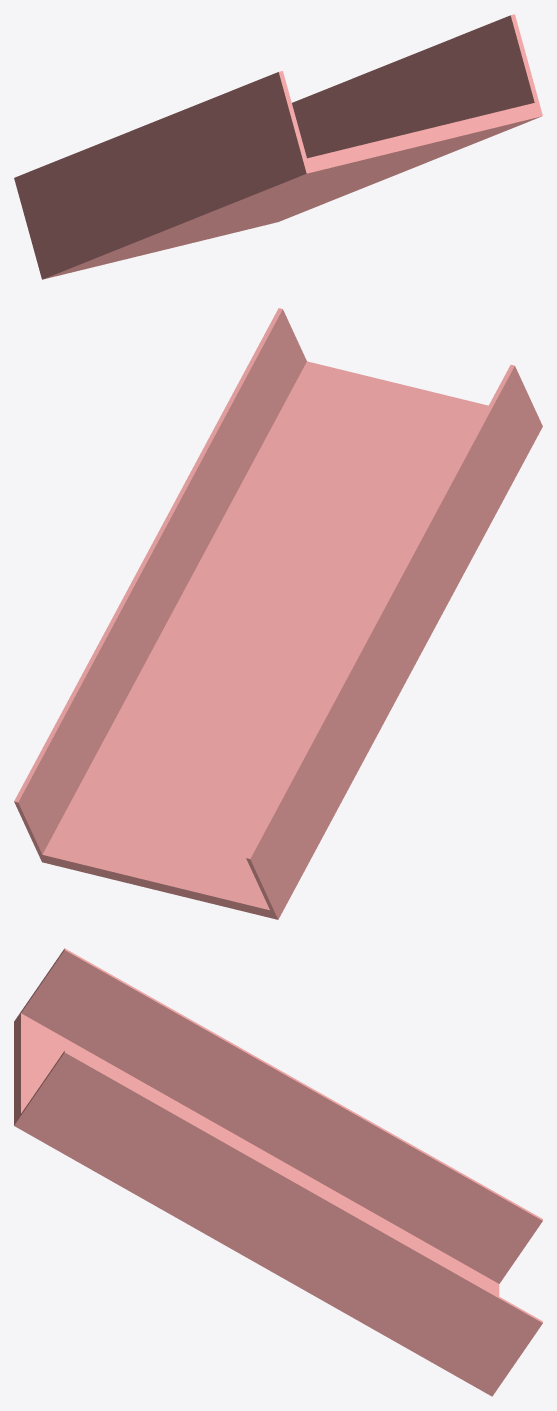
The model's file is climb-0.glb.
3 views of the same model, one above another, from view 1: azimuth 30°, elevation 25°; view 2: azimuth 150°, elevation 25°; view 3: azimuth 270°, elevation 25° (orthographic). The views are drawn at different scales.
Visible parts, largest first — view 1: climb-0; view 2: climb-0; view 3: climb-0.
Boxes of the visible parts, box(x1,y1,x2,y2) form: climb-0: box(14, 14, 542, 279); climb-0: box(14, 308, 542, 919); climb-0: box(14, 948, 542, 1396).
Size of the model in its own units: 3.3 by 5.09 by 7.08.
Materials: 1 (1 with a texture image).
